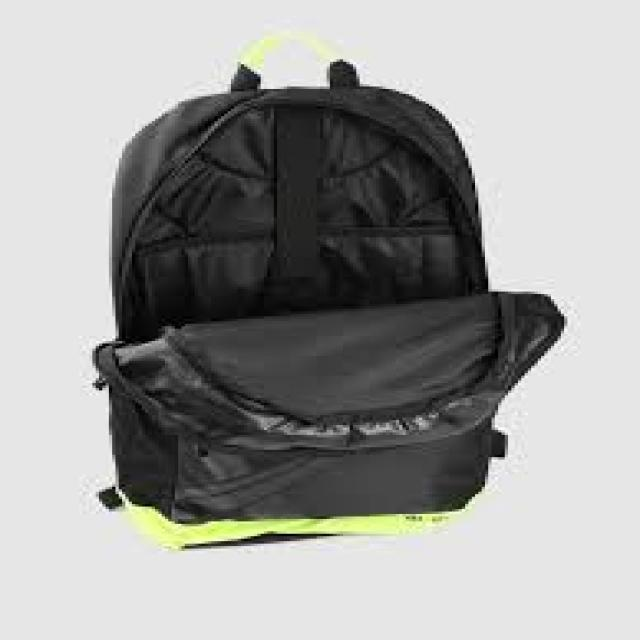backpack: (90, 36, 565, 547)
